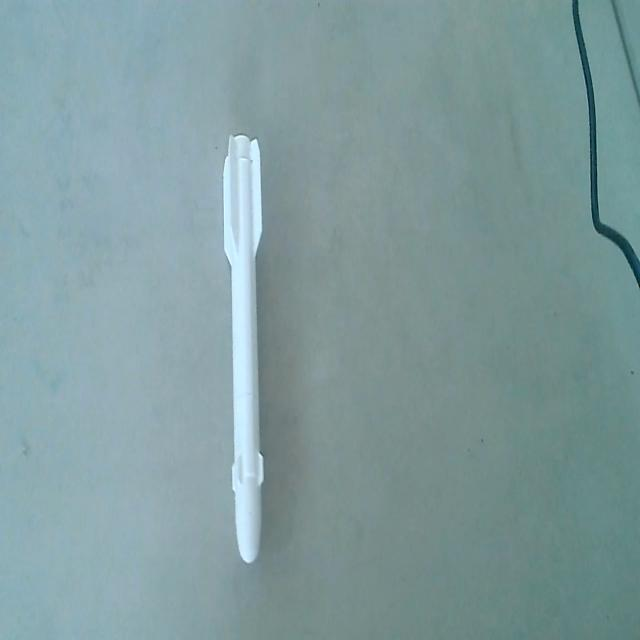Rocket: (222, 129, 269, 569)
